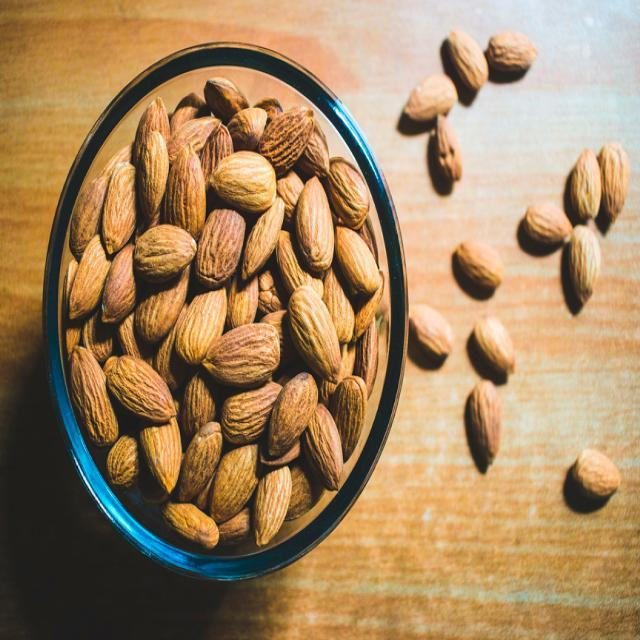Frutta secca: (75, 109, 378, 521)
